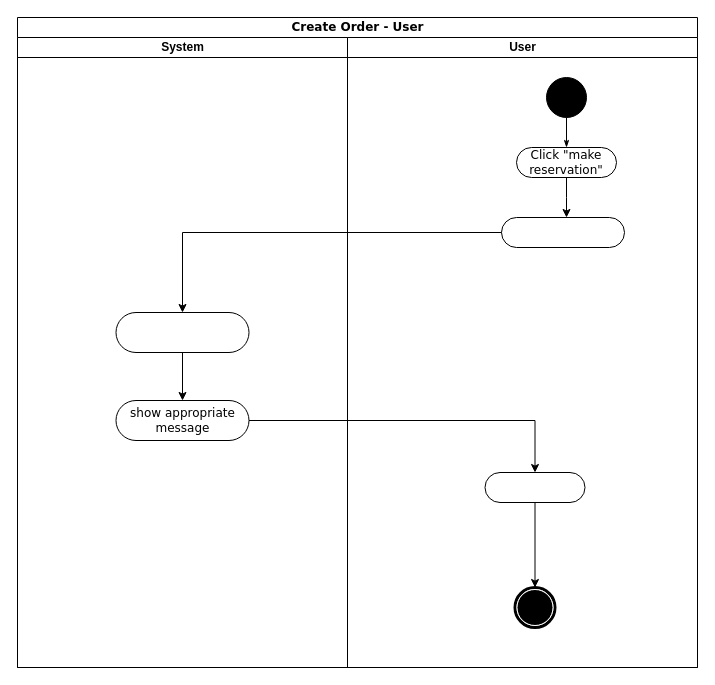
Image size: 715x685. Some labels were removed from this diagram. The shapes that lost their labels are listed below. From the top down, each one's centre as x and y in pixels, then its label:
At (x=562, y=232): "choose product".
At (x=182, y=332): "add the order to the DB".
At (x=534, y=487): "do stuff".
